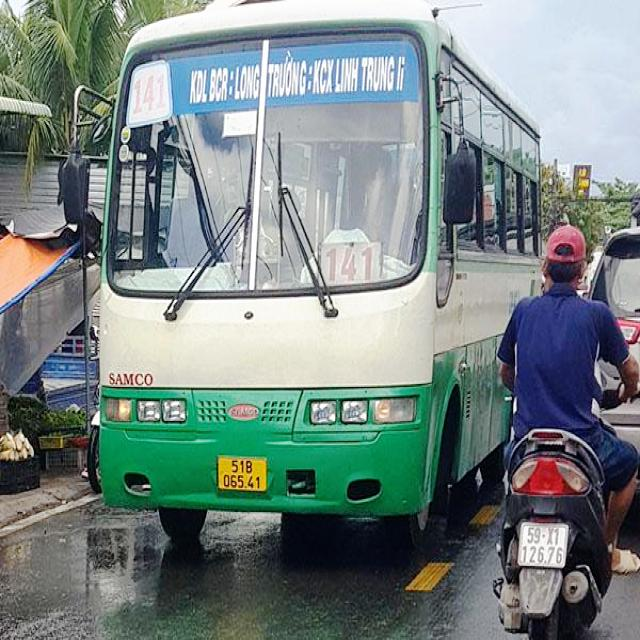license_plate: (520, 525, 568, 567), (217, 454, 268, 490)
